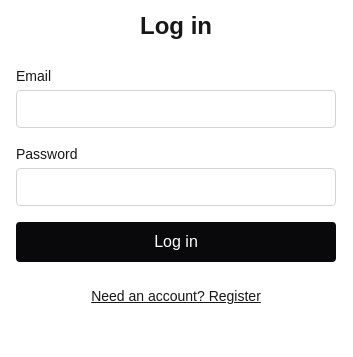
it: login page › an invalid-credentials failure shows the error and does not navigate
The width and height of the screenshot is (353, 357).
Type "a@b.test" into the field labelled "Email" at (176, 109), box [16,90,336,128]
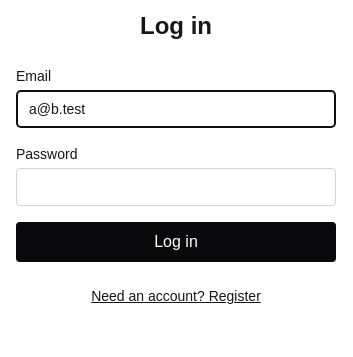
Type "wrongpassword1" into the password field labelled "Password" at (176, 187), box [16,168,336,206]
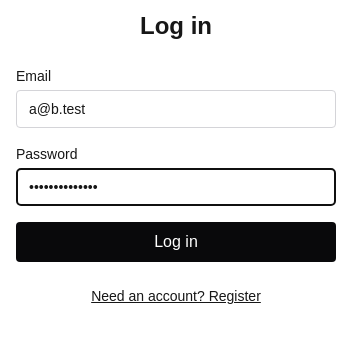
Click the button "Log in" at (176, 242), box [16,222,336,262]
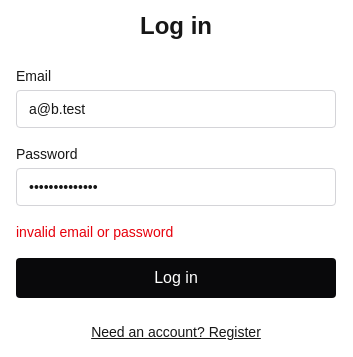
Now the message reads "invalid email or password", box [16,224,173,240]
